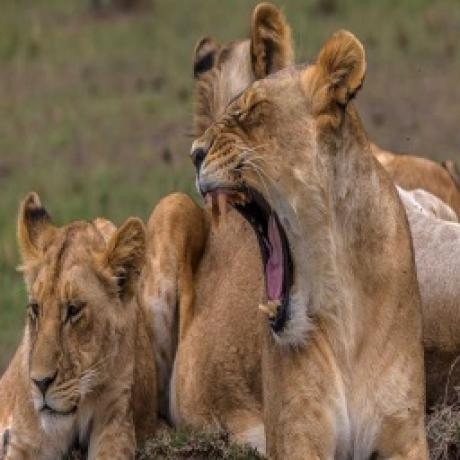Lion: (167, 26, 431, 460), (0, 187, 162, 460)
